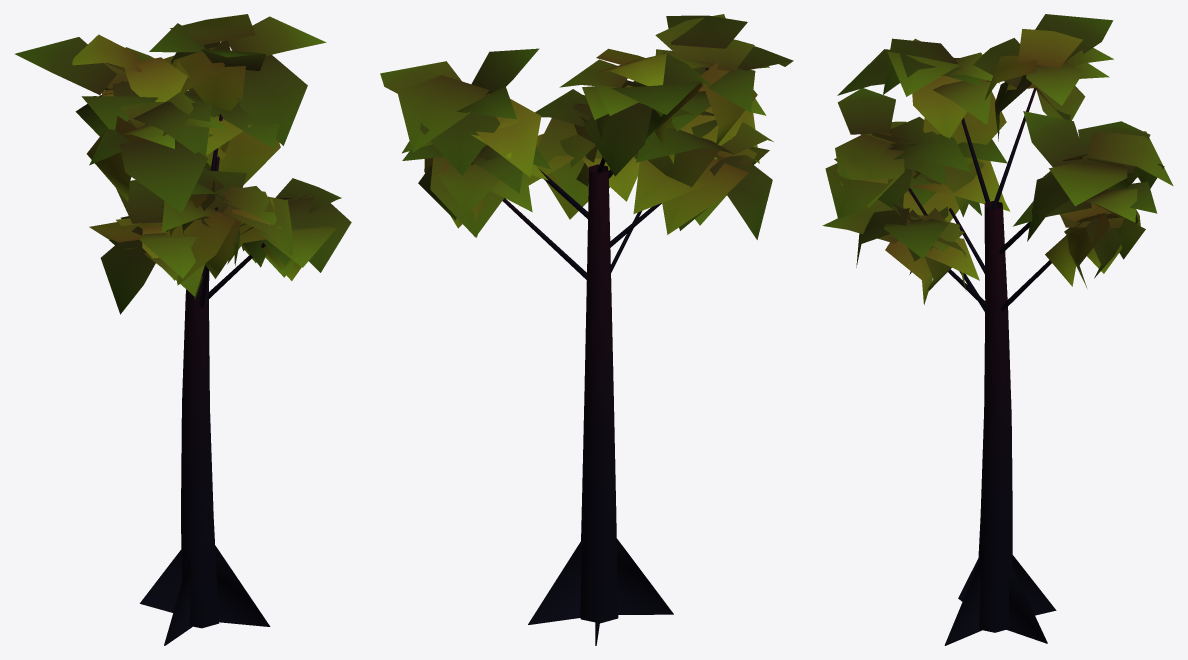
Rendered from patch_elephant_far.glb.
3 views of the same model, side by side, from view 1: azimuth 30°, elevation 25°; view 2: azimuth 150°, elevation 25°; view 3: azimuth 270°, elevation 25° (orthographic). The views are drawn at different scales.
Parts seen in each view (by area): view 1: patch_elephant_far; view 2: patch_elephant_far; view 3: patch_elephant_far.
Part boxes in pixels (box(x1,y1,x2,y2)): patch_elephant_far: box(15, 14, 351, 645); patch_elephant_far: box(380, 14, 793, 645); patch_elephant_far: box(822, 14, 1173, 645).
Bounding box in the file's own units: 6.76 × 12.28 × 7.
Materials: 1 (1 with a texture image).
